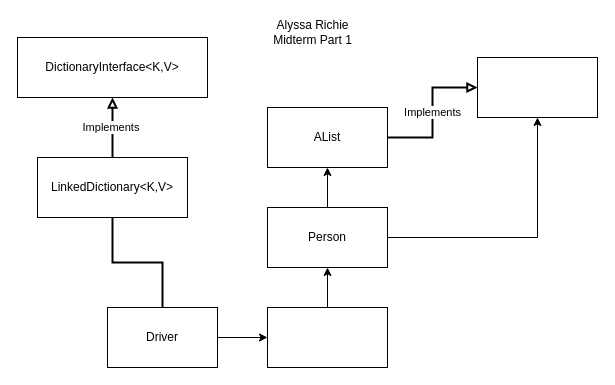
Some shapes in this 615 by 385 pixel diagram are drawn without their labels. The centre of each missing label's shape, as x and y in pixels:
"DataBase" belongs at [327,337].
"ListInterface<T>" belongs at [537,87].
